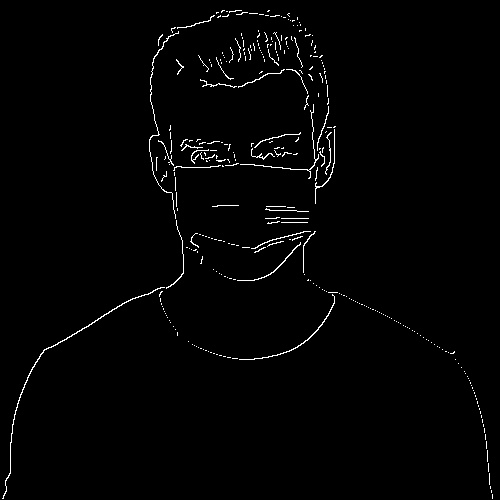mask: (171, 165, 319, 265)
